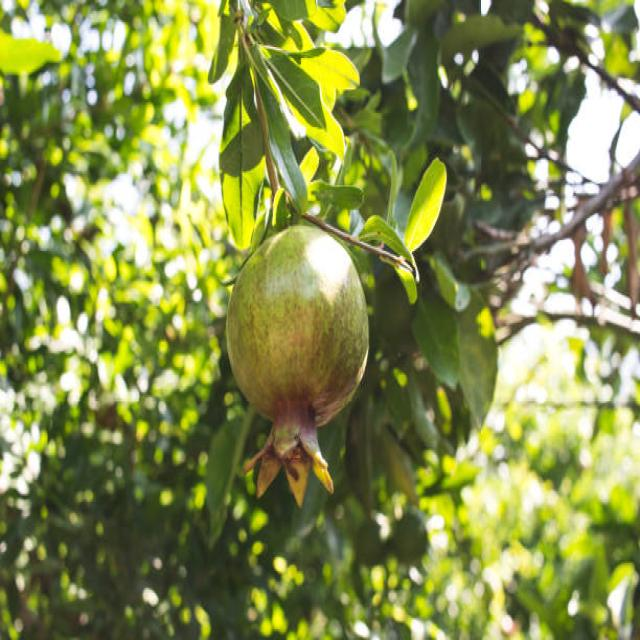Unripe: (225, 220, 369, 503)
